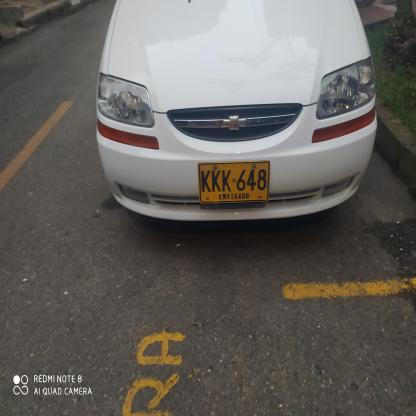placa: (195, 159, 272, 208)
